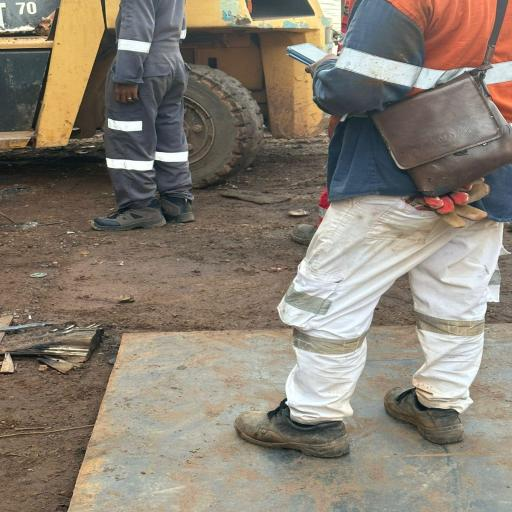safety_shoe: (232, 401, 354, 461), (380, 380, 462, 454), (92, 204, 166, 232), (148, 197, 196, 225)
